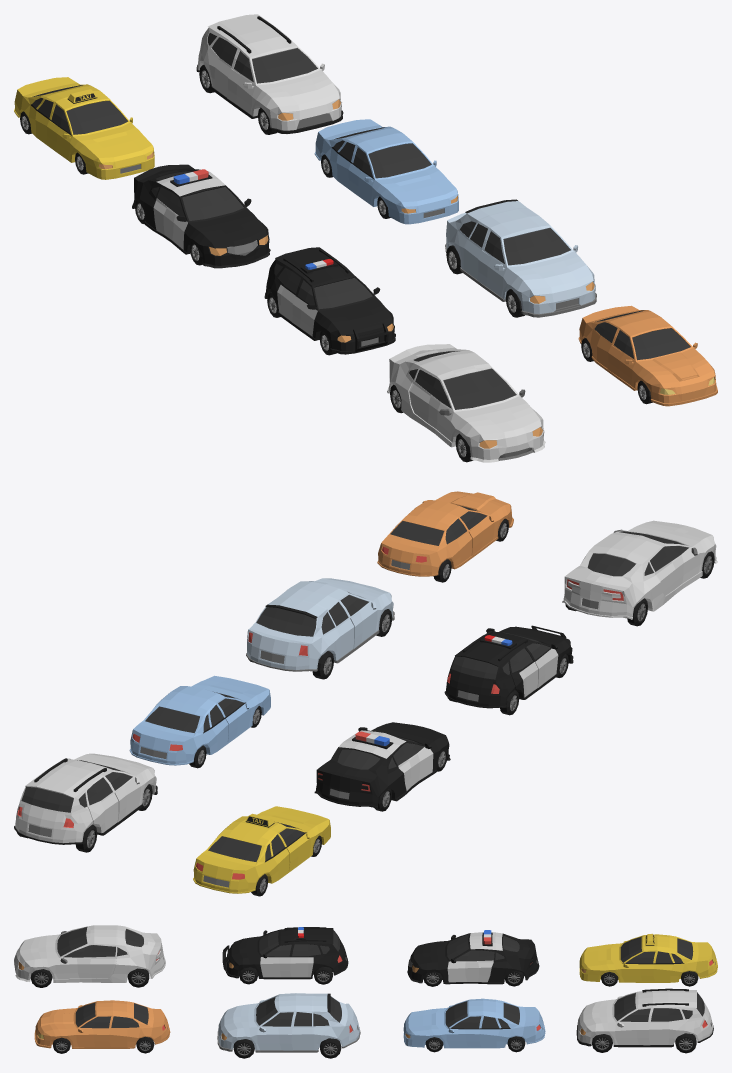
Rendered from cars.fbx.
3 renders of one model, top to bottom at view 1: azimuth 30°, elevation 25°; view 2: azimuth 150°, elevation 25°; view 3: azimuth 270°, elevation 25°, orthographic. The views are drawn at different scales.
Visible parts, largest first — view 1: SportsCar2; view 2: SportsCar2; view 3: SportsCar2.
Boxes of the visible parts, left/top/right/bottom form: SportsCar2: left=14, top=14, right=717, bottom=462; SportsCar2: left=14, top=491, right=717, bottom=896; SportsCar2: left=14, top=925, right=717, bottom=1058.
Size of the model in its own units: 1122 by 253 by 3412.
